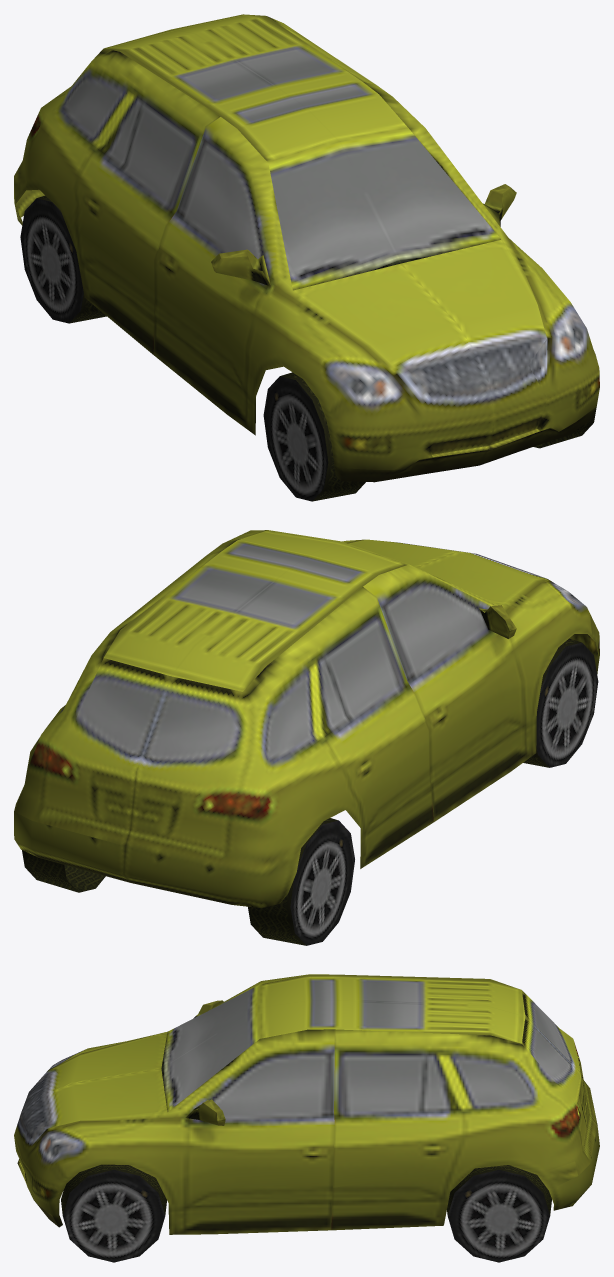
The model's file is SUV.fbx.
3 views of the same model, one above another, from view 1: azimuth 30°, elevation 25°; view 2: azimuth 150°, elevation 25°; view 3: azimuth 270°, elevation 25° (orthographic). The views are drawn at different scales.
Parts seen in each view (by area): view 1: SUV; view 2: SUV; view 3: SUV.
Part boxes in pixels (x1,y1,x2,y2): SUV: [14, 14, 599, 501]; SUV: [14, 530, 599, 945]; SUV: [14, 974, 599, 1262].
Size of the model in its own units: 0.9577 by 0.8105 by 2.03.
Materials: 1 (1 with a texture image).
